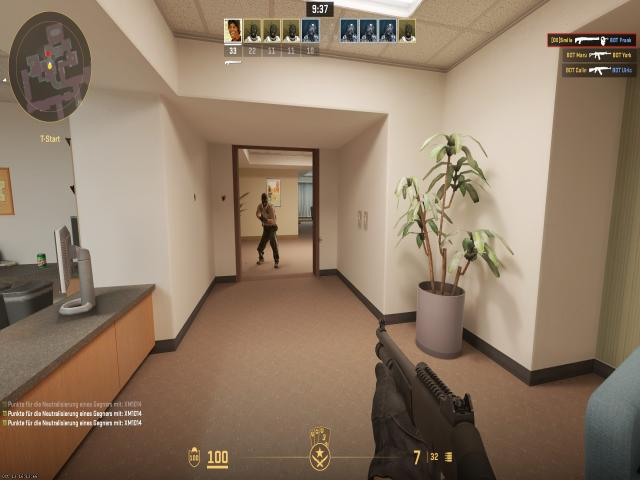T: (253, 192, 282, 266)
T-Head: (258, 192, 272, 209)
